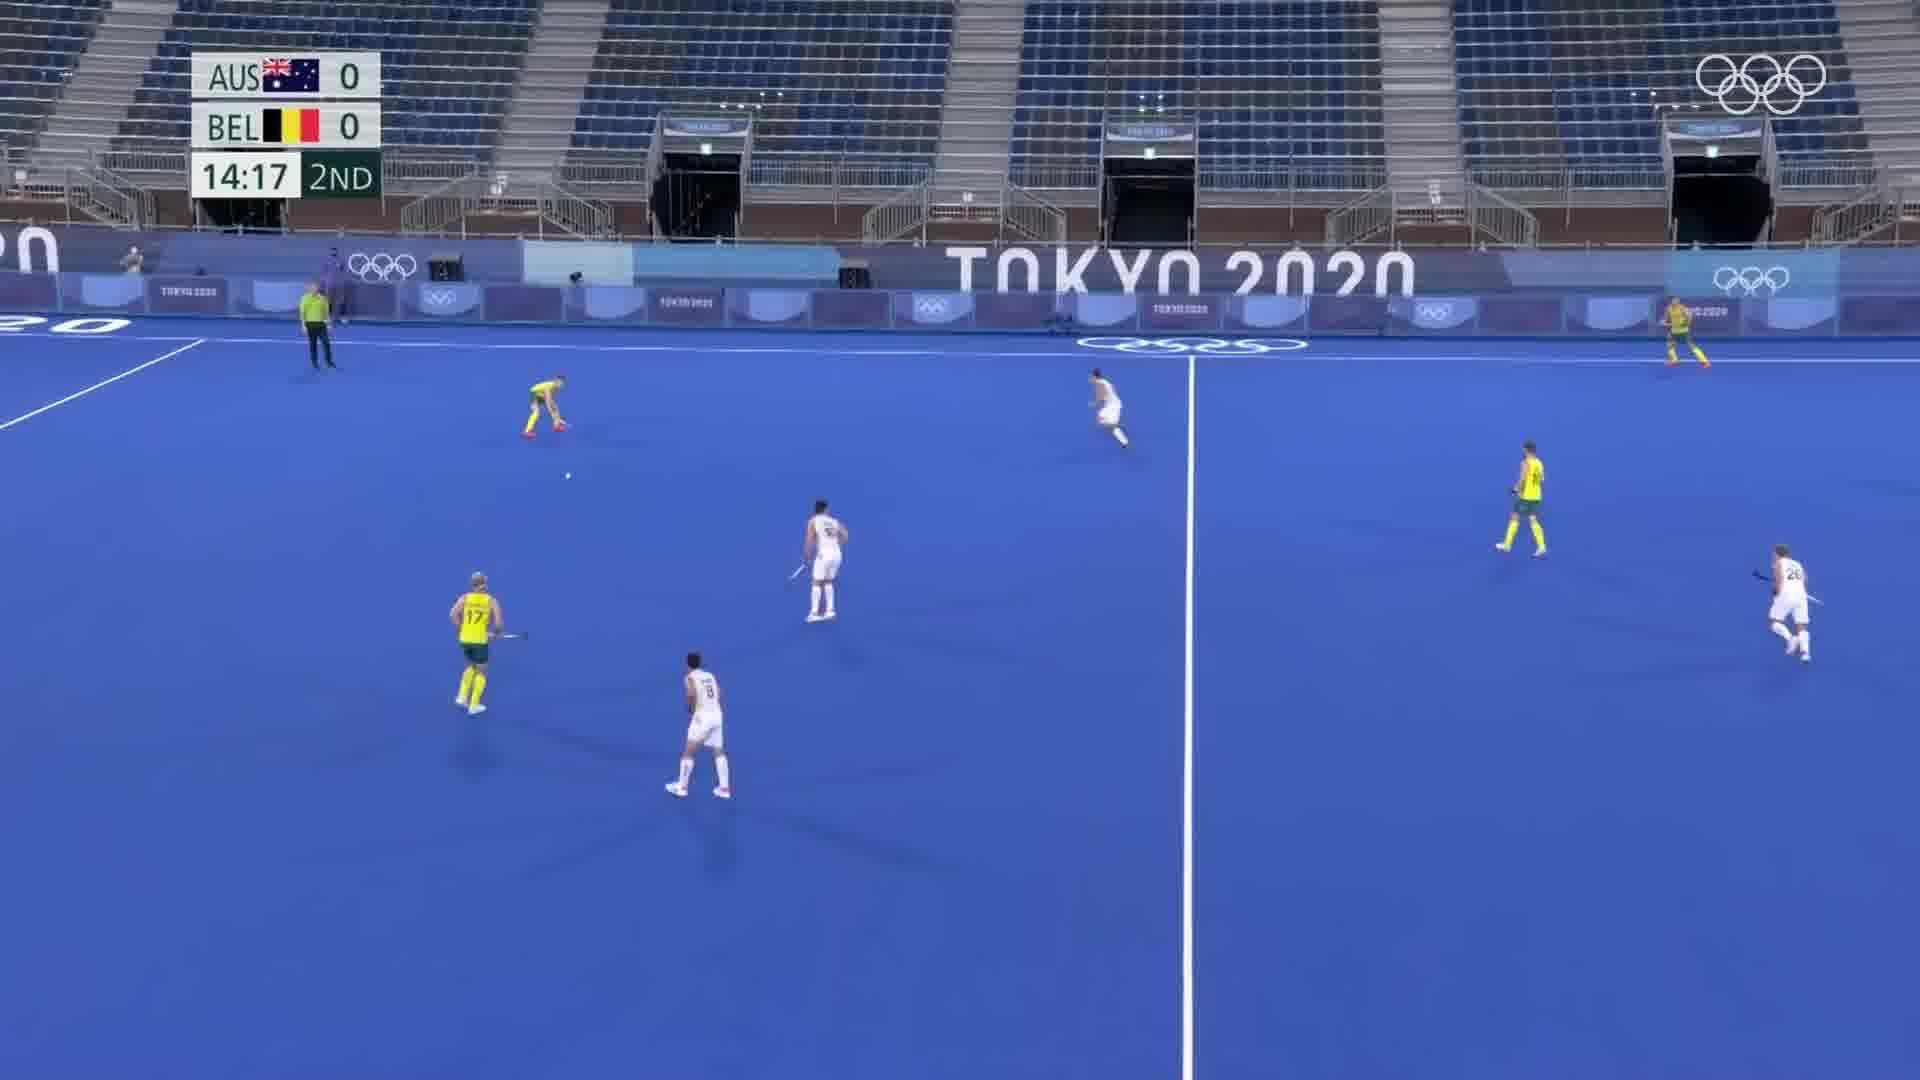ball: (559, 469, 578, 488)
